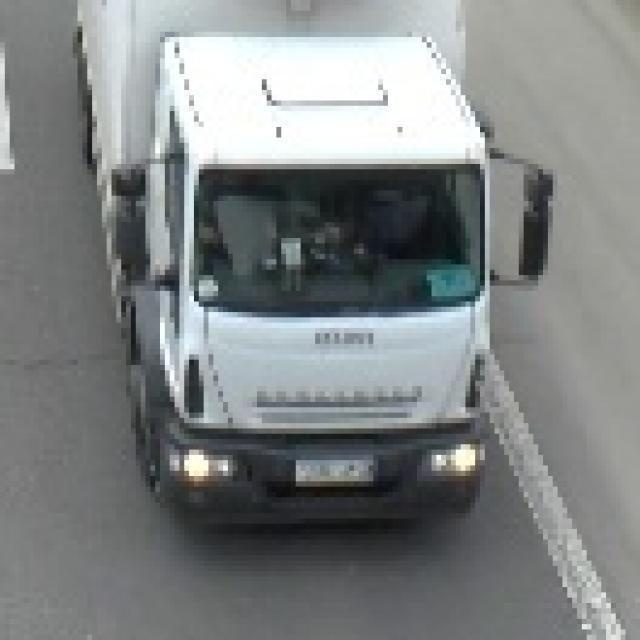Truck: (68, 0, 553, 540)
